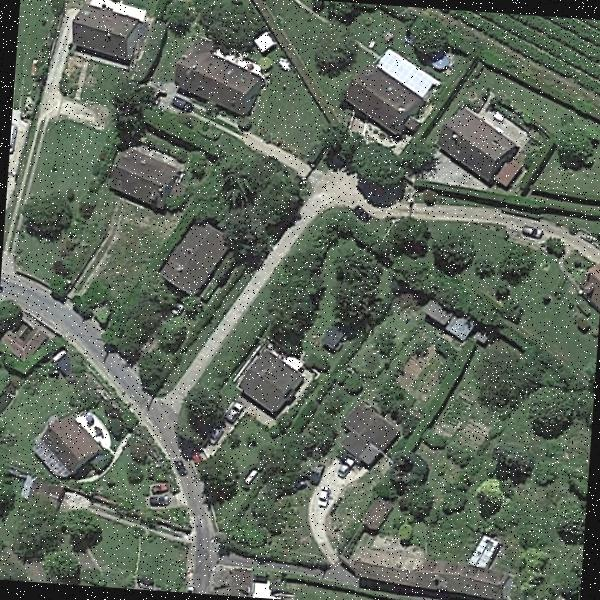Buildings: (349, 545, 503, 600), (232, 352, 313, 413), (178, 52, 260, 112), (352, 69, 430, 130), (170, 215, 224, 300), (444, 121, 525, 176), (66, 6, 144, 63), (38, 417, 110, 473), (114, 151, 178, 207), (340, 414, 404, 458), (0, 311, 43, 362), (581, 241, 600, 318)
